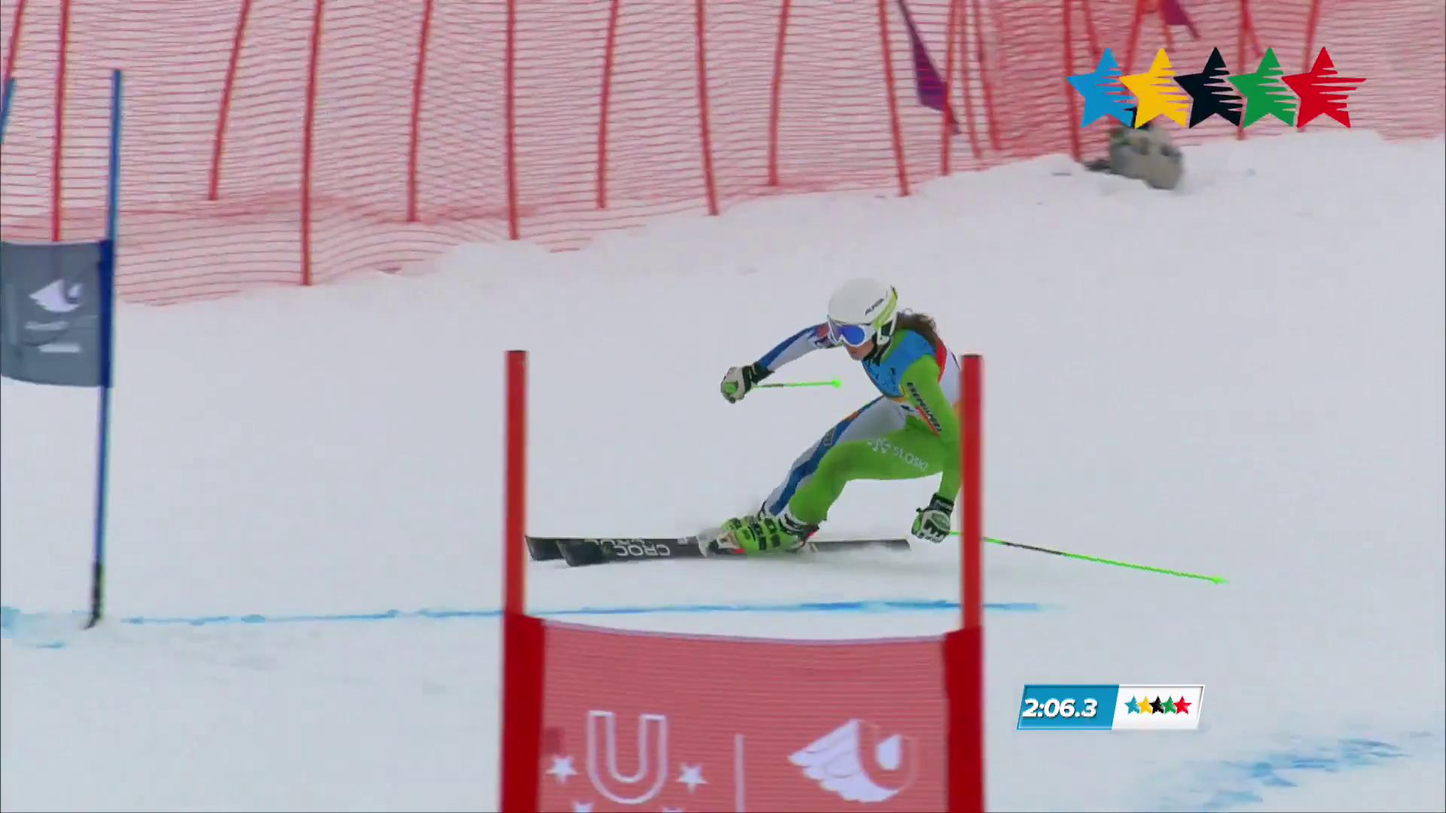gate: (84, 70, 123, 628), (500, 350, 545, 812), (945, 355, 986, 812)
